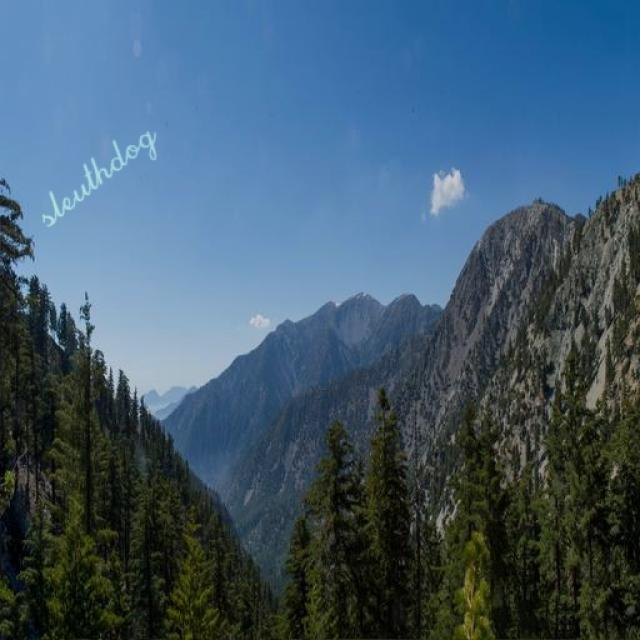watermark: (38, 108, 158, 233)
